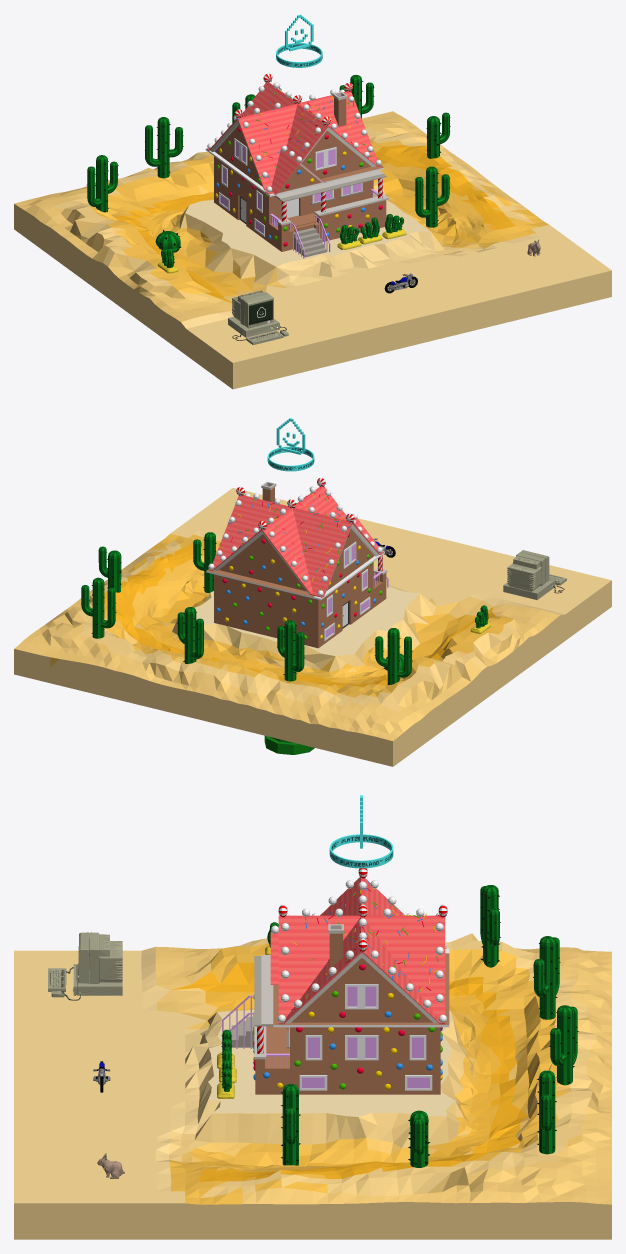
The picture shows the model from 3 angles, top to bottom: view 1: azimuth 30°, elevation 25°; view 2: azimuth 150°, elevation 25°; view 3: azimuth 270°, elevation 25°; orthographic projection. The views are drawn at different scales.
Parts seen in each view (by area): view 1: Cube.001, Cube.1203, OBJRANDOM_RETRO_PC, Cylinder.044, Cylinder.037, Cylinder.045, TYPE_PREMIUM, Cylinder.038, Cylinder.042; view 2: Cube.001, Cube.1203, OBJRANDOM_RETRO_PC, Cylinder.042, Cylinder.045, Cylinder.044, Cylinder.043, TYPE_PREMIUM, Cylinder.037, Cylinder.038, UNDERGROUND_PIPES; view 3: Cube.001, Cube.1203, OBJRANDOM_RETRO_PC, Cylinder.044, Cylinder.043, Cylinder.045, Cylinder.042, Cylinder.037, TYPE_PREMIUM, Cylinder.038.
Part boxes in pixels (x1=…): Cube.001: x1=14, y1=111, x2=611, y2=389; Cube.1203: x1=205, y1=73, x2=388, y2=258; OBJRANDOM_RETRO_PC: x1=228, y1=290, x2=288, y2=344; Cylinder.044: x1=145, y1=117, x2=183, y2=178; Cylinder.037: x1=415, y1=166, x2=449, y2=227; Cylinder.045: x1=87, y1=155, x2=118, y2=212; TYPE_PREMIUM: x1=276, y1=14, x2=322, y2=67; Cylinder.038: x1=426, y1=112, x2=450, y2=158; Cylinder.042: x1=339, y1=75, x2=374, y2=118; Cube.001: x1=14, y1=488, x2=611, y2=766; Cube.1203: x1=206, y1=478, x2=388, y2=648; OBJRANDOM_RETRO_PC: x1=503, y1=550, x2=566, y2=599; Cylinder.042: x1=81, y1=577, x2=116, y2=638; Cylinder.045: x1=374, y1=628, x2=412, y2=684; Cylinder.044: x1=277, y1=620, x2=304, y2=681; Cylinder.043: x1=177, y1=607, x2=203, y2=663; TYPE_PREMIUM: x1=267, y1=418, x2=314, y2=471; Cylinder.037: x1=193, y1=532, x2=220, y2=592; Cylinder.038: x1=98, y1=546, x2=121, y2=592; UNDERGROUND_PIPES: x1=264, y1=736, x2=314, y2=754; Cube.001: x1=14, y1=933, x2=611, y2=1239; Cube.1203: x1=222, y1=868, x2=449, y2=1094; OBJRANDOM_RETRO_PC: x1=48, y1=932, x2=122, y2=1000; Cylinder.044: x1=533, y1=936, x2=560, y2=1019; Cylinder.043: x1=549, y1=1005, x2=578, y2=1085; Cylinder.045: x1=480, y1=885, x2=500, y2=967; Cylinder.042: x1=537, y1=1070, x2=556, y2=1154; Cylinder.037: x1=281, y1=1084, x2=300, y2=1165; TYPE_PREMIUM: x1=329, y1=795, x2=393, y2=868; Cylinder.038: x1=408, y1=1110, x2=429, y2=1167.
Size of the model in its own units: 4002 by 3021 by 4001.
Materials: 40 (4 with a texture image).
